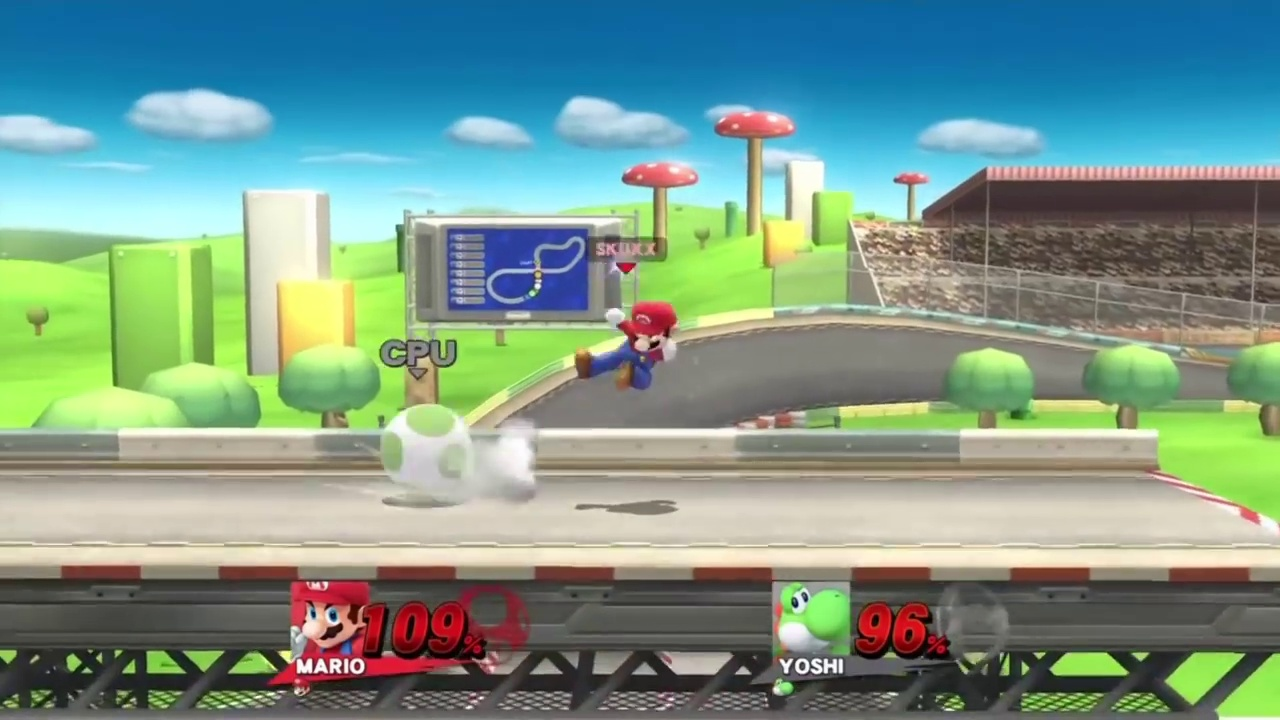Mario: (577, 302, 679, 394)
